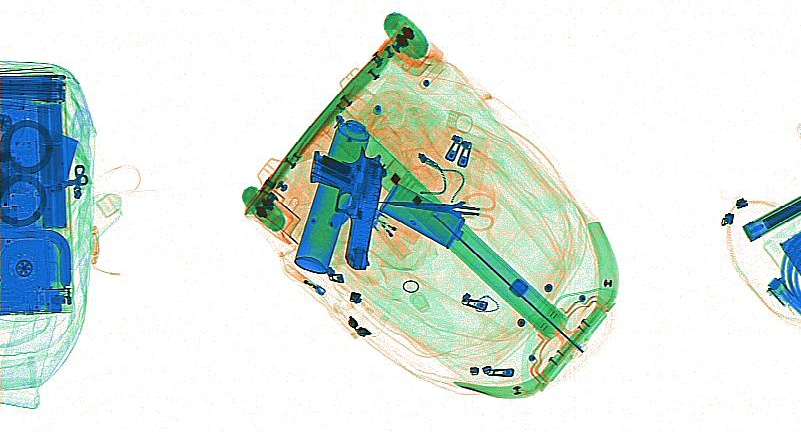handcuffs: (1, 118, 51, 228)
knife: (324, 173, 376, 229)
lighter: (366, 215, 413, 260), (371, 206, 422, 245), (283, 262, 325, 296)
pressure: (292, 120, 370, 275)
scissors: (377, 192, 494, 231)
zippooil: (380, 183, 464, 249)
